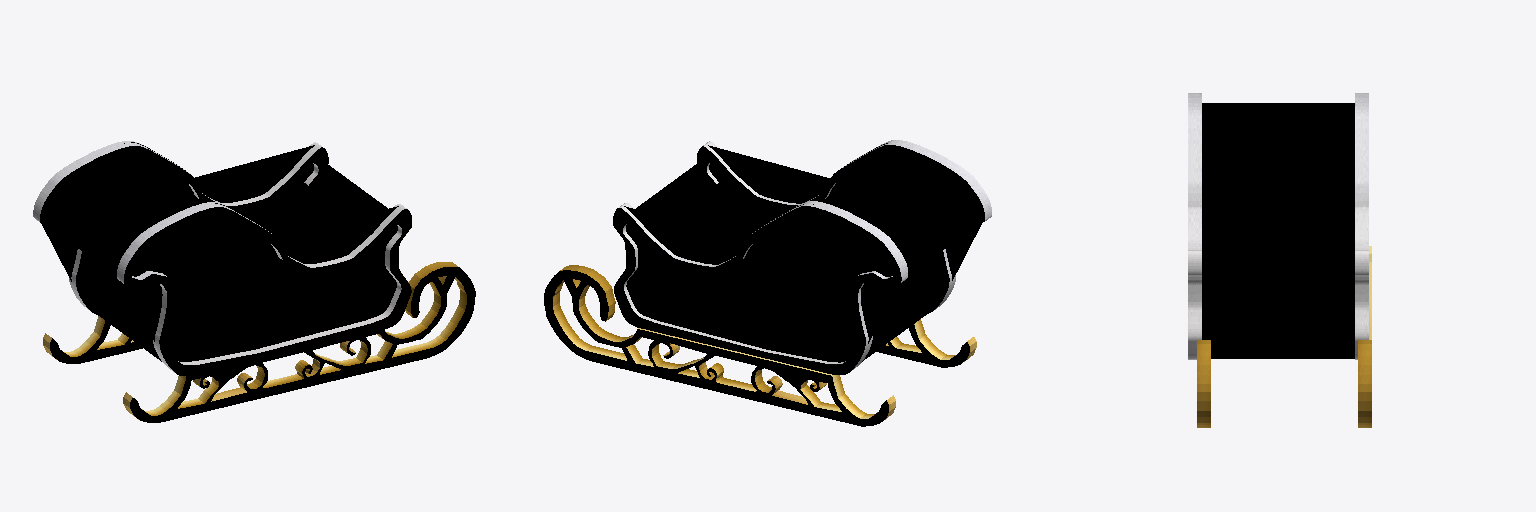
The picture shows the model from 3 angles: view 1: azimuth 30°, elevation 25°; view 2: azimuth 150°, elevation 25°; view 3: azimuth 270°, elevation 25°; orthographic projection.
Parts seen in each view (by area): view 1: polySurface35; view 2: polySurface35; view 3: polySurface35.
Part boxes in pixels (left/top/right/bottom): polySurface35: left=33, top=141, right=475, bottom=422; polySurface35: left=544, top=140, right=991, bottom=426; polySurface35: left=1188, top=93, right=1371, bottom=427.
Bounding box in the file's own units: 13.82 × 7.69 × 6.17.
Materials: 4 (2 with a texture image).